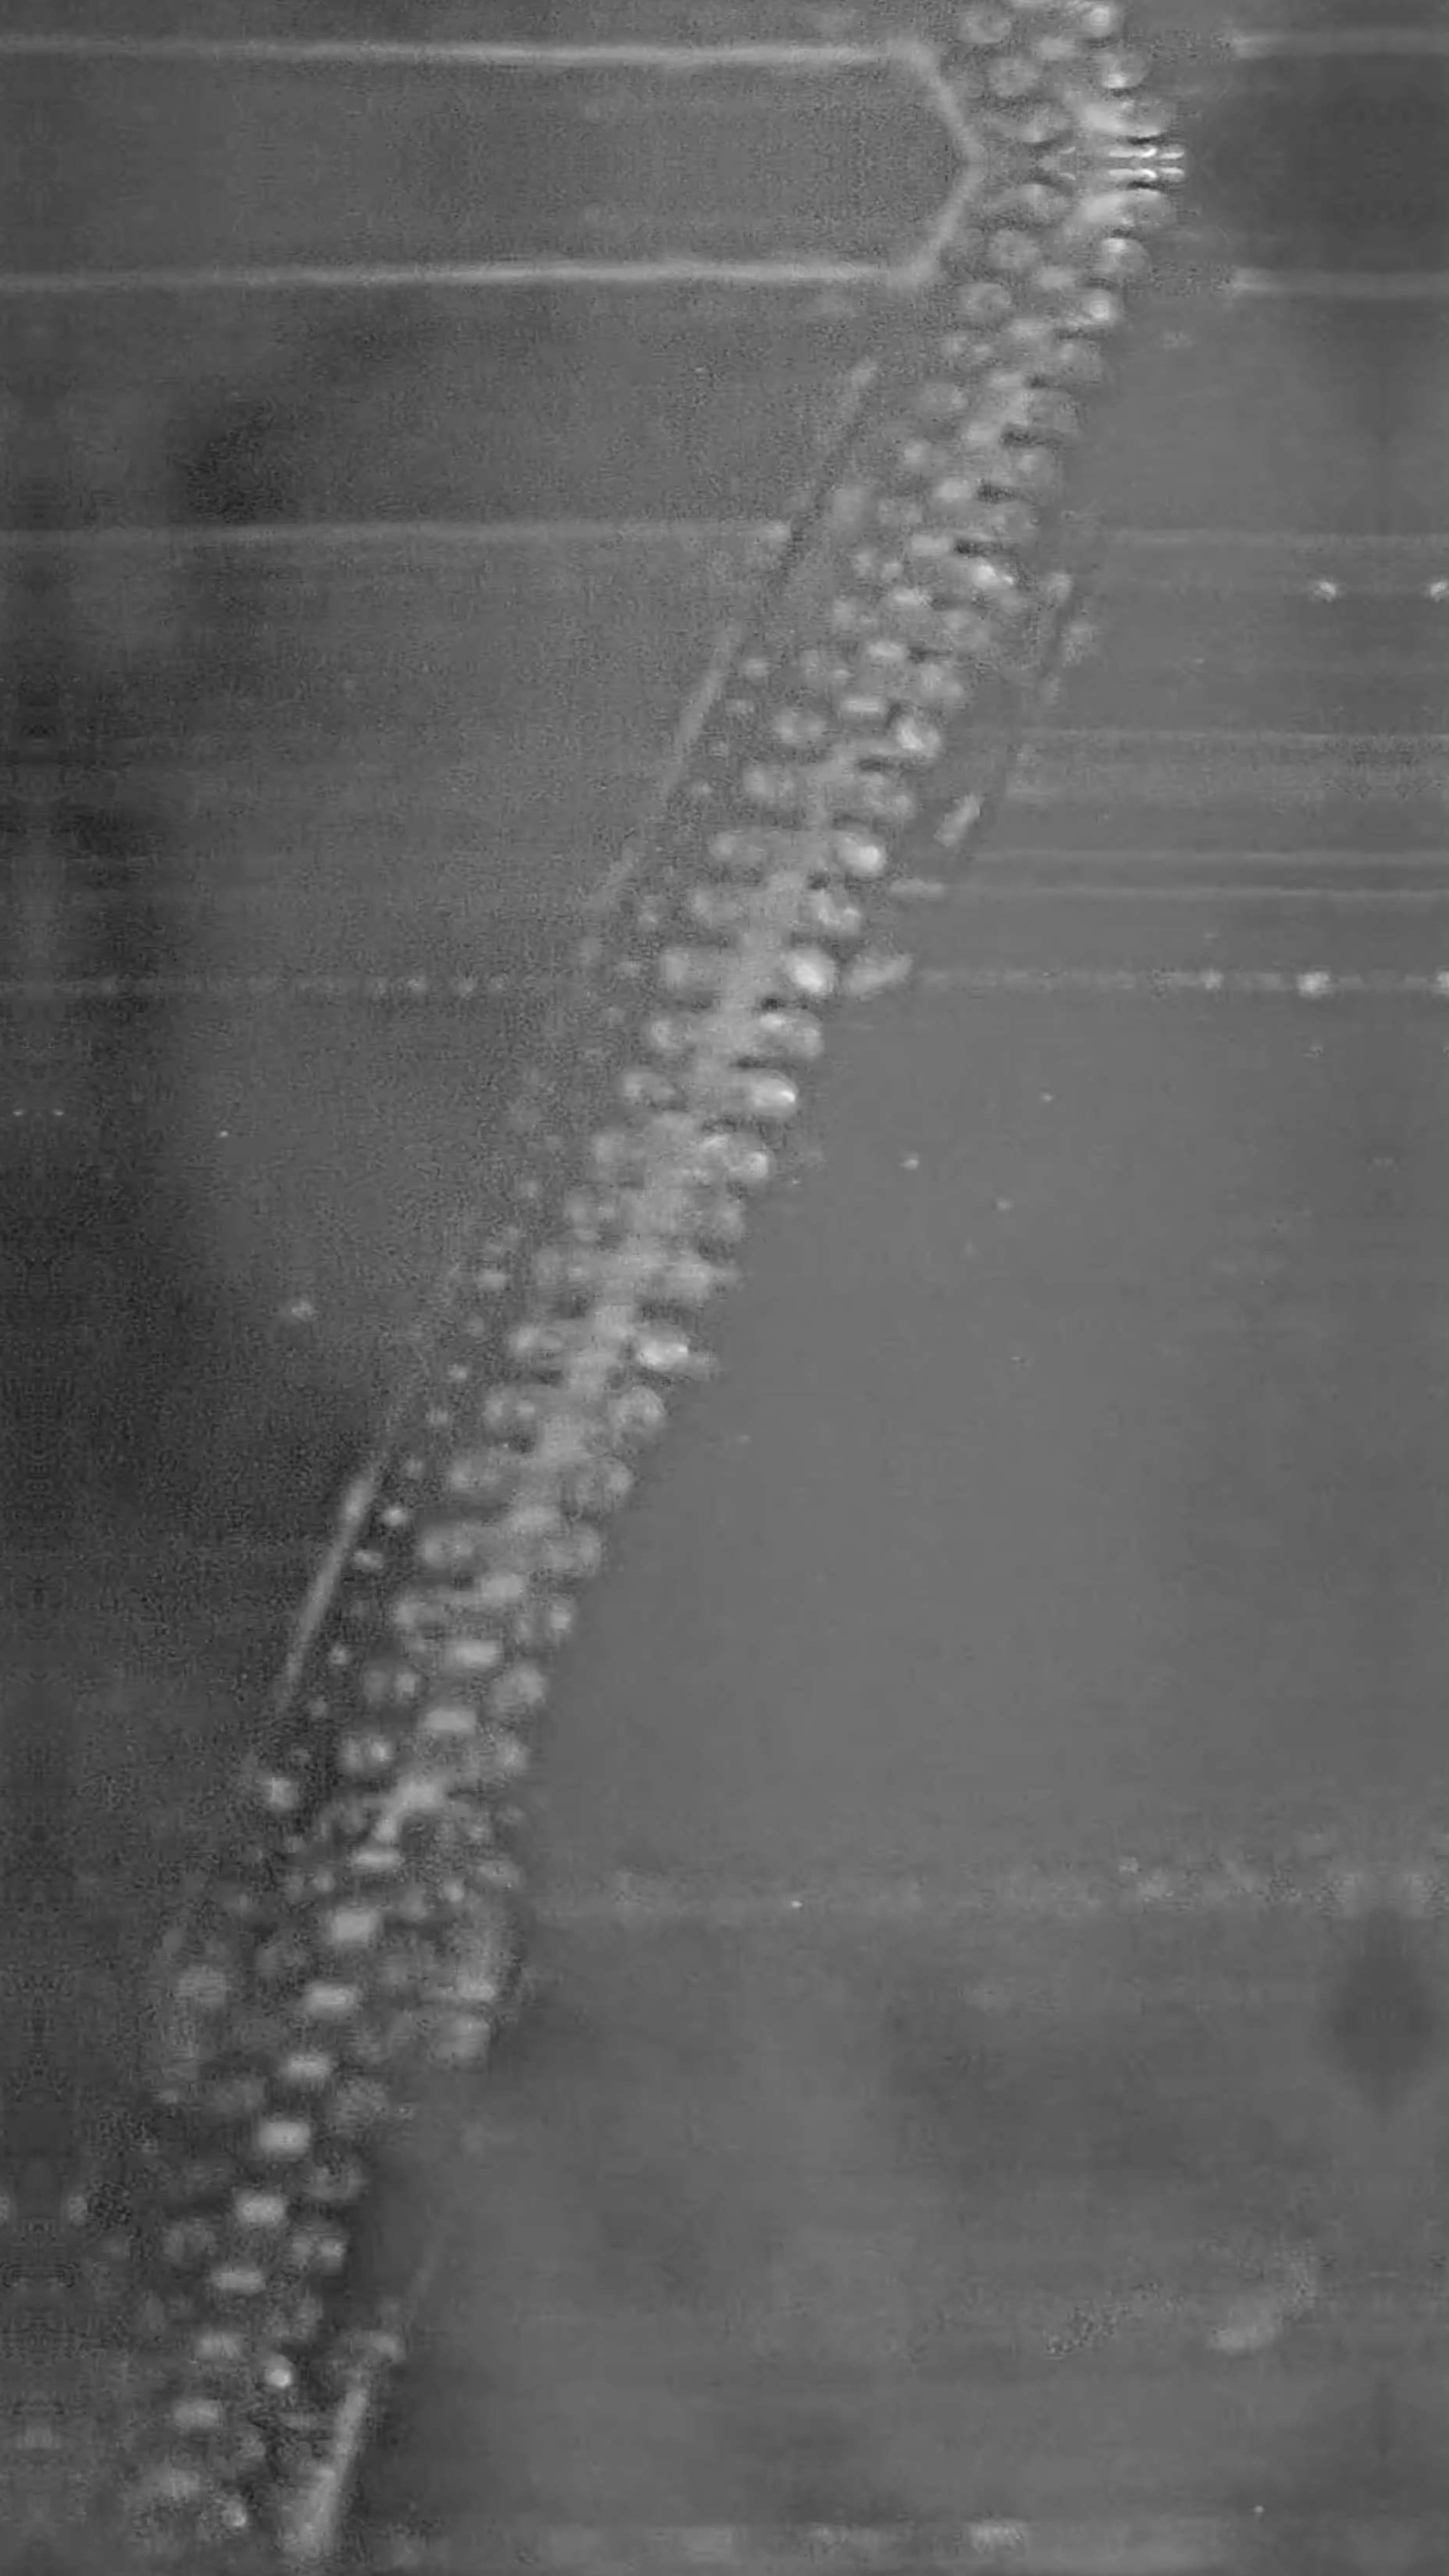splice_vulcanized: (37, 161, 1191, 2572)
